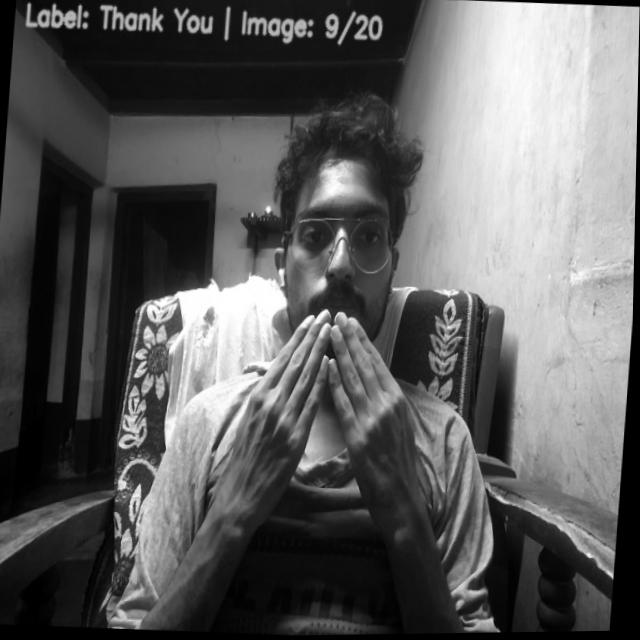Thank You: (226, 300, 444, 518)
